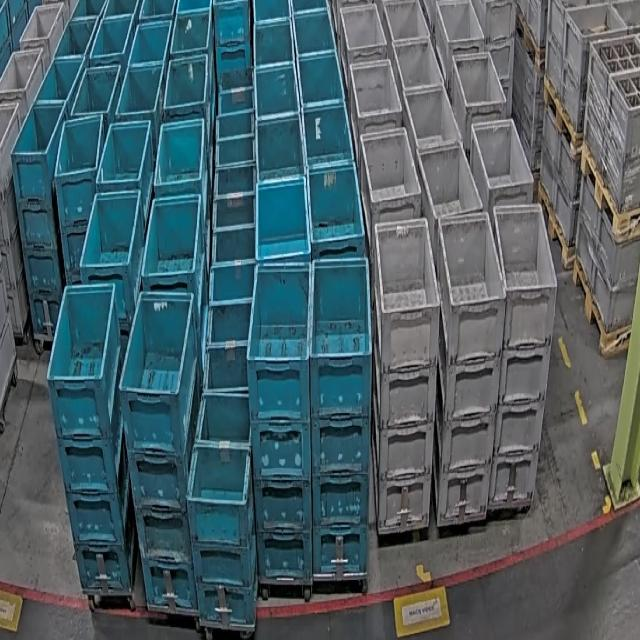4G: (432, 210, 507, 522), (372, 217, 441, 530), (488, 202, 558, 509)
B4: (45, 282, 136, 591), (118, 289, 201, 611), (245, 260, 312, 582), (309, 255, 373, 578), (12, 100, 67, 341), (53, 112, 106, 288)
B8: (185, 390, 258, 628)
